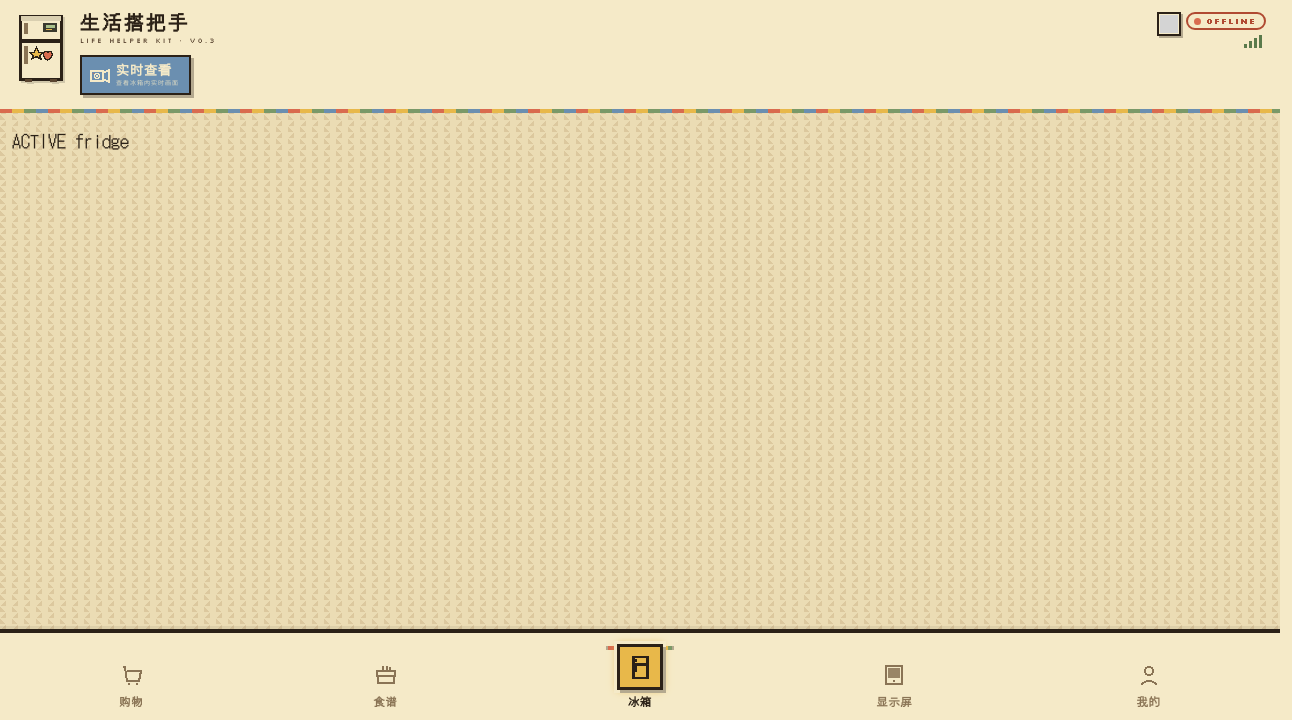
it: AppShell › changes selected tab and switches to the compact header
The width and height of the screenshot is (1292, 720).
Click the tab "食谱".
click(386, 684)  # box left=258, top=657, right=513, bottom=711
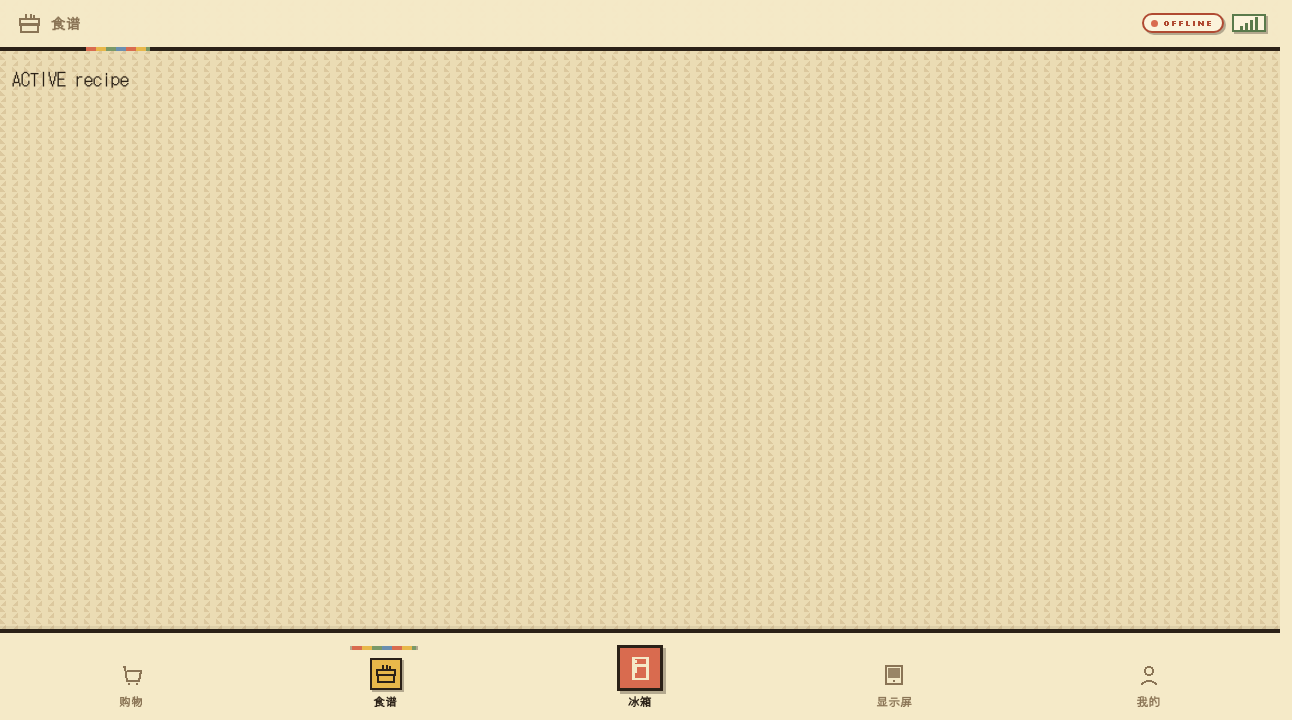
Expected: the text with class "compact-tab-label" reads "食谱", left=51, top=13, right=81, bottom=33
